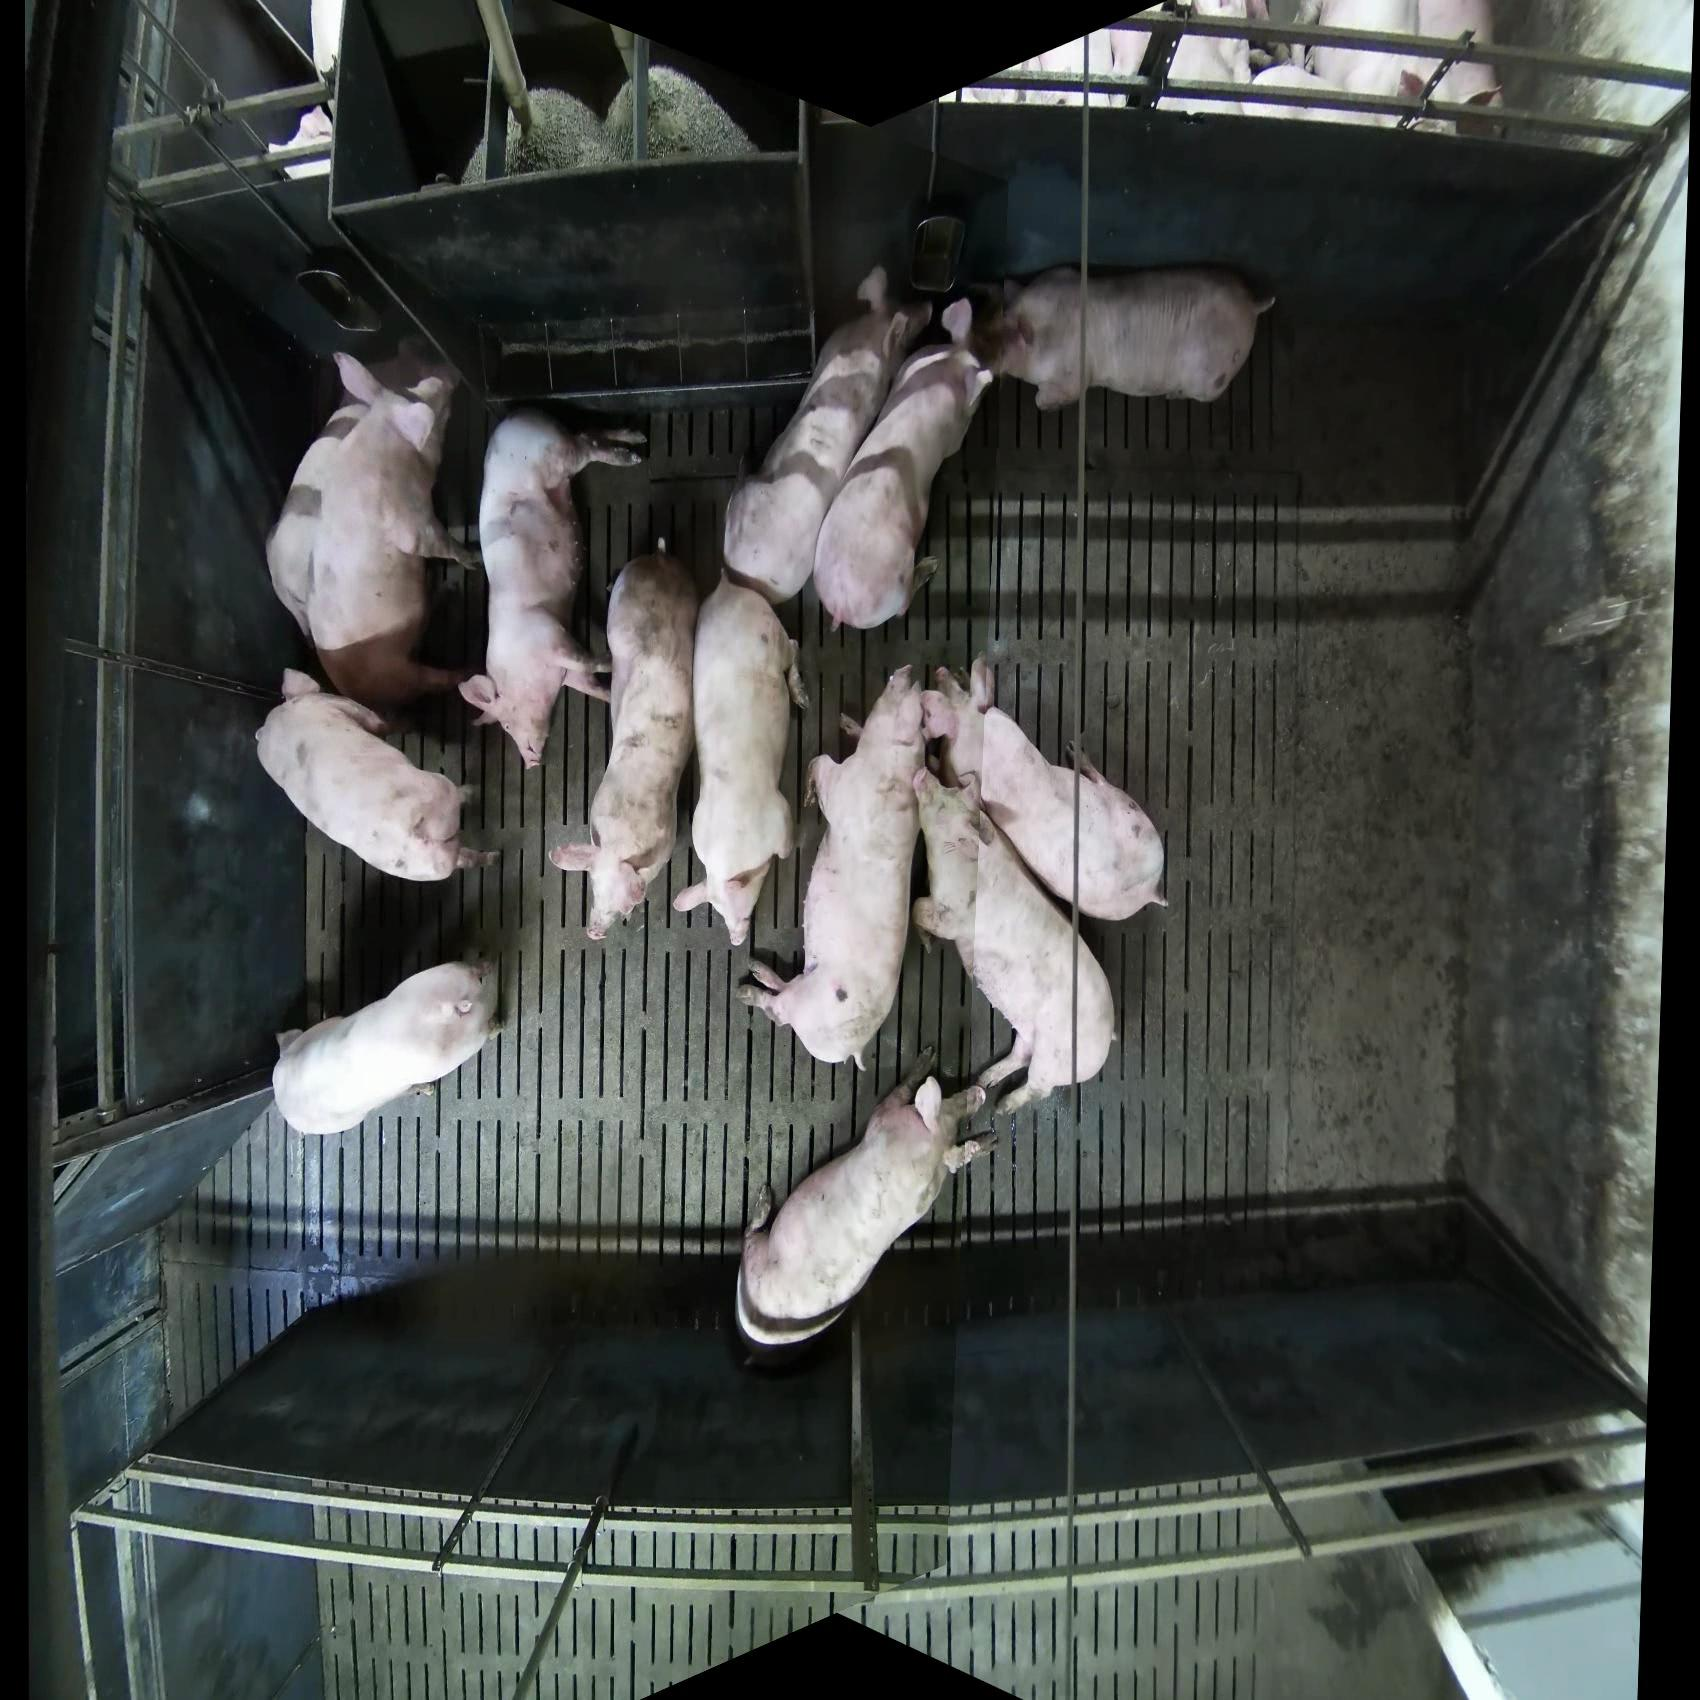pig: (733, 663, 939, 1070), (265, 347, 484, 711), (733, 1062, 999, 1350), (911, 763, 1118, 1121), (721, 265, 934, 606), (458, 403, 651, 771), (925, 659, 1171, 923), (548, 543, 701, 942), (811, 305, 996, 630), (671, 564, 811, 950), (254, 666, 500, 884), (947, 262, 1280, 413), (269, 951, 504, 1140), (1247, 2, 1505, 137), (1107, 2, 1258, 118), (1401, 2, 1505, 139), (1306, 2, 1423, 98)
